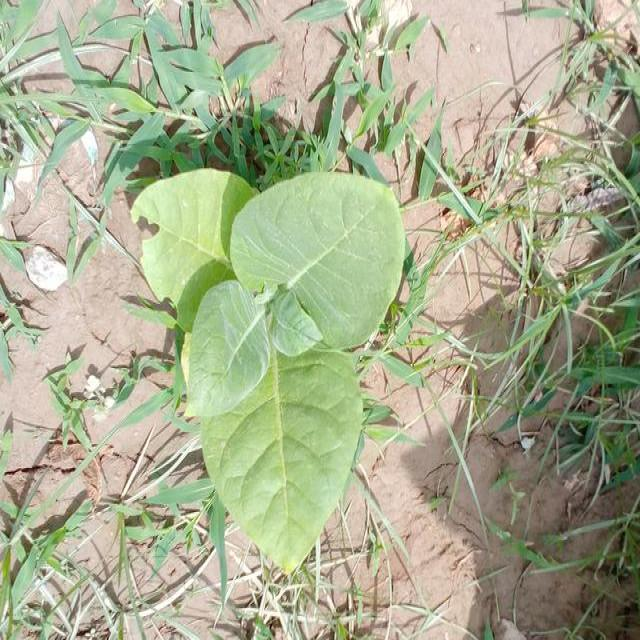crop: (130, 163, 398, 549)
